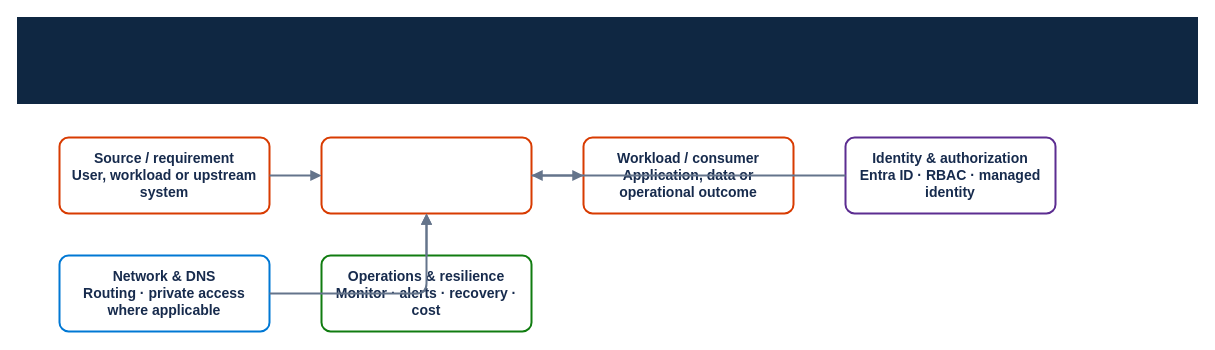
The diagram is 1215 pixels wide and 350 high, and some of its shapes have lost their labels. Each missing label, with the box of its shape:
Azure Event Hubs: (16, 16, 1198, 104)
Azure Event Hubs Azure service / architecture control: (320, 136, 532, 214)
